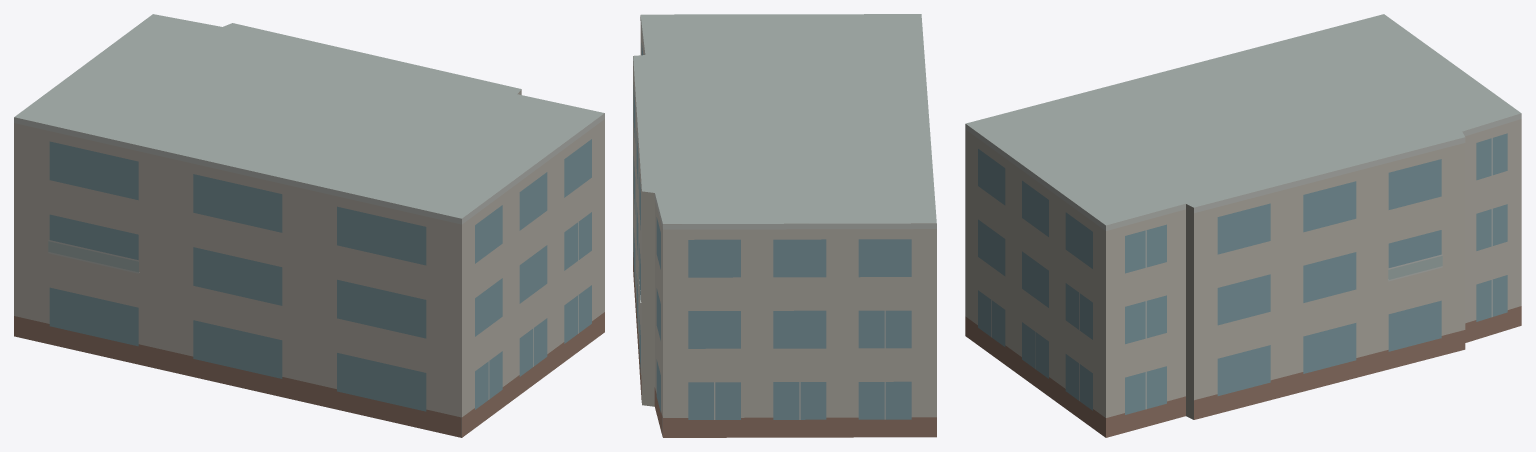
Rendered from survey-upis-32972839.glb.
3 renders of one model, left to right at view 1: azimuth 30°, elevation 25°; view 2: azimuth 150°, elevation 25°; view 3: azimuth 270°, elevation 25°, orthographic. The views are drawn at different scales.
Parts seen in each view (by area): view 1: survey-upis-32972839.tmp; view 2: survey-upis-32972839.tmp; view 3: survey-upis-32972839.tmp.
Part boxes in pixels (x1,y1,x2,y2): survey-upis-32972839.tmp: (14, 14, 604, 437); survey-upis-32972839.tmp: (633, 14, 936, 437); survey-upis-32972839.tmp: (965, 14, 1521, 437).
Bounding box in the file's own units: 19.55 × 9.15 × 21.72.
